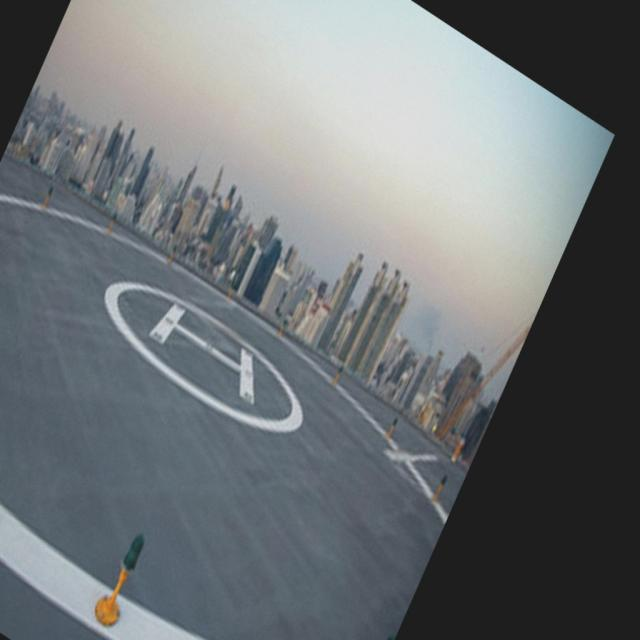helipad: (100, 271, 306, 435)
